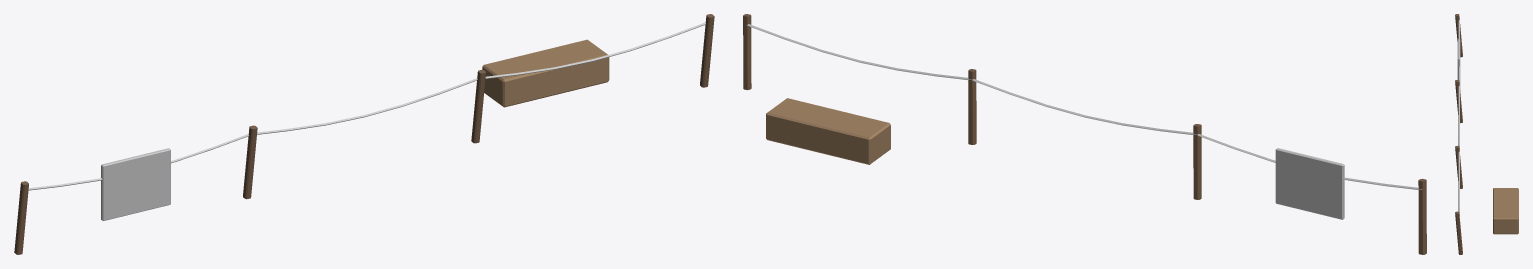
File: hitch_line.glb
3 renders of one model, left to right at view 1: azimuth 30°, elevation 25°; view 2: azimuth 150°, elevation 25°; view 3: azimuth 270°, elevation 25°, orthographic. The views are drawn at different scales.
Visible parts, largest first — view 1: hitch_line; view 2: hitch_line; view 3: hitch_line.
Boxes of the visible parts, x1,y1,x2,y2 form: hitch_line: [14, 14, 714, 254]; hitch_line: [743, 14, 1426, 254]; hitch_line: [1455, 14, 1518, 254].
Bounding box in the file's own units: 9.12 × 0.9049 × 1.23.
